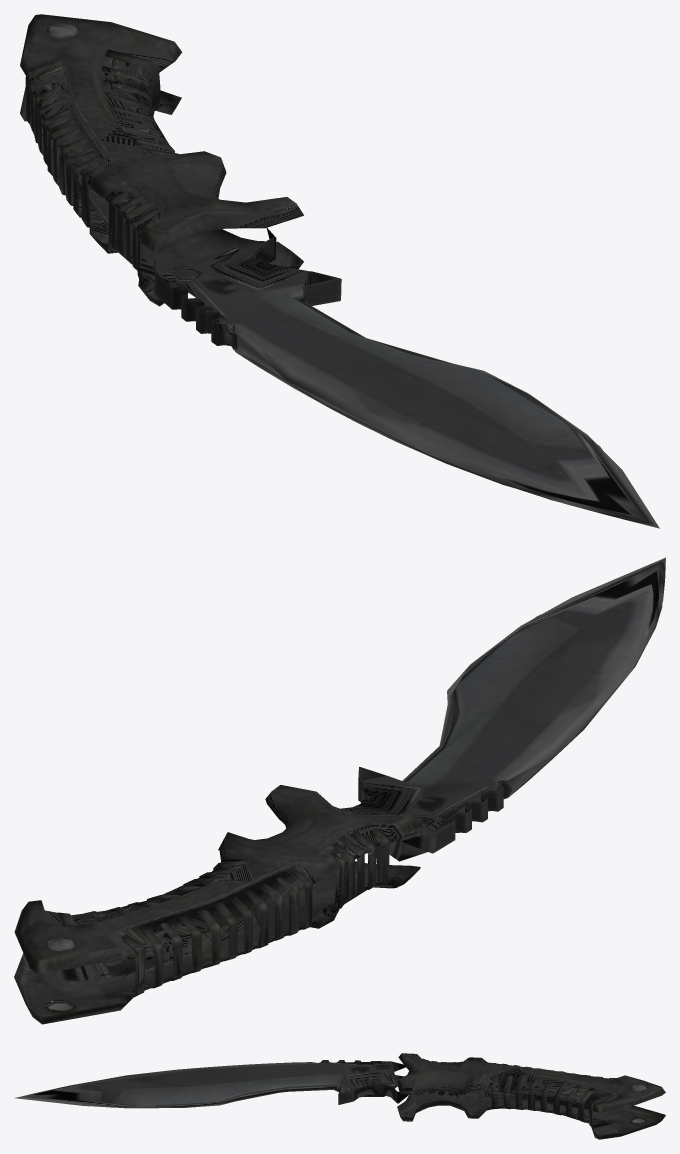
Rendered from w_knife.glb.
3 views of the same model, one above another, from view 1: azimuth 30°, elevation 25°; view 2: azimuth 150°, elevation 25°; view 3: azimuth 270°, elevation 25° (orthographic). The views are drawn at different scales.
Visible parts, largest first — view 1: w_knife; view 2: w_knife; view 3: w_knife.
Part boxes in pixels (box(x1,y1,x2,y2)): w_knife: box(20, 14, 659, 528); w_knife: box(14, 557, 665, 1024); w_knife: box(14, 1053, 665, 1139).
Size of the model in its own units: 0.1118 by 0.0317 by 0.523.
1 material, 1 textured.
